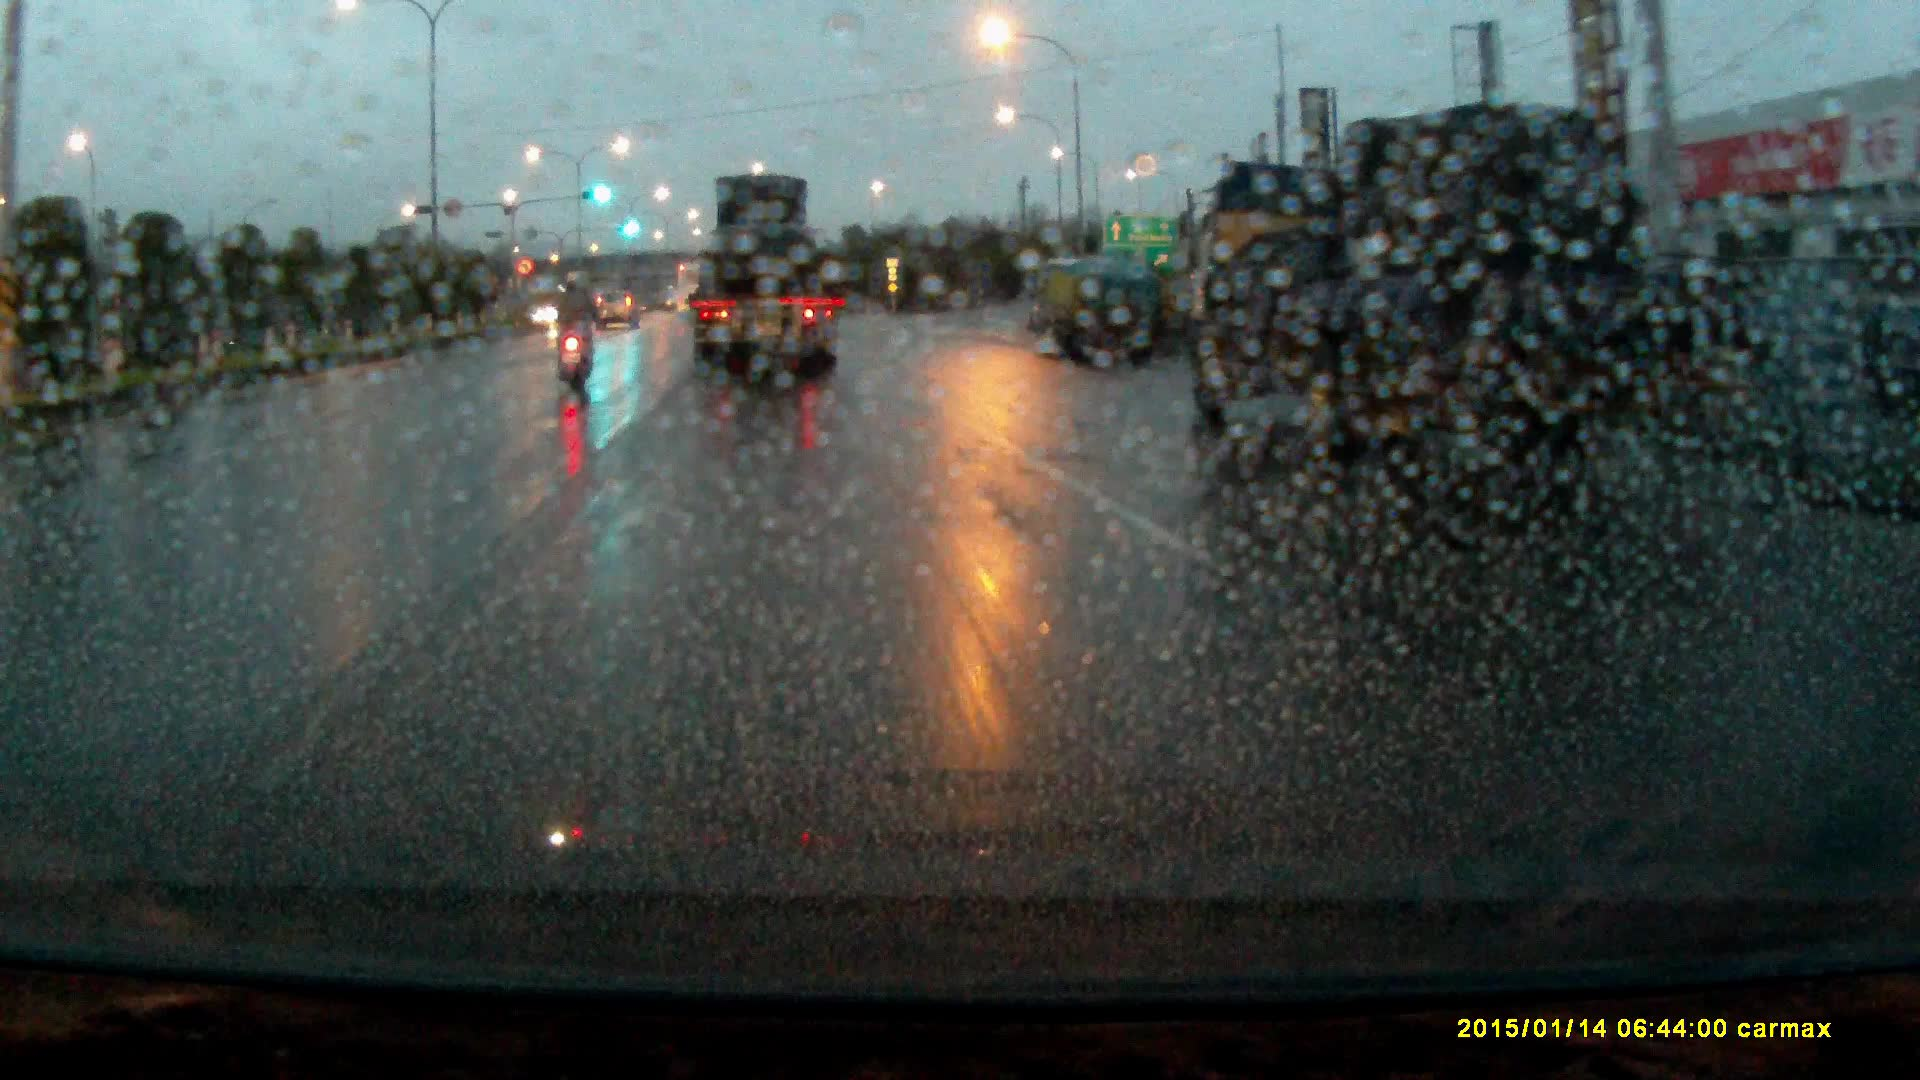rider: (550, 272, 603, 401)
vehicle: (1193, 106, 1712, 497), (685, 172, 843, 384), (1019, 262, 1166, 362), (598, 291, 642, 334), (676, 263, 703, 316)
